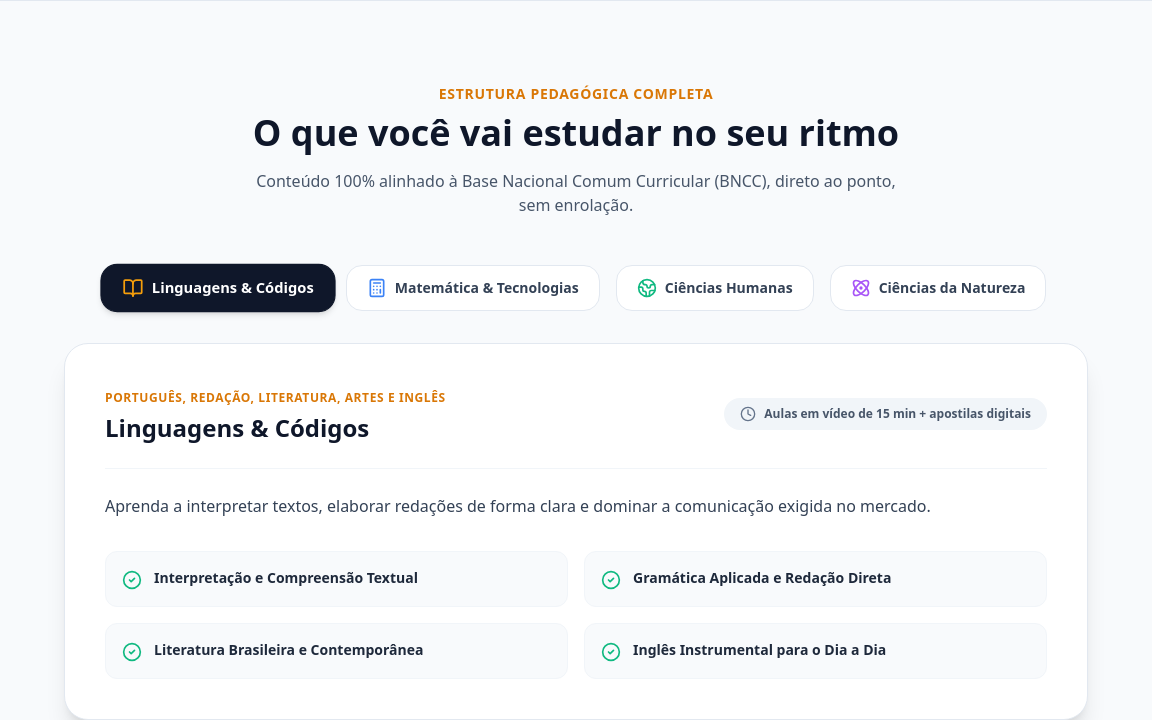
Test: Supletivo Brasil - Suite de Testes Completa › deve permitir trocar abas na Grade Curricular
This screenshot has width=1152, height=720.
Expected: the text "Estrutura Pedagógica Completa" is shown, [439,84,713,103]
What coordinates should you click on to do the following:
click the button "Matemática & Tecnologias"
I would click on:
 (473, 288)
Its box is [346,265,600,311].
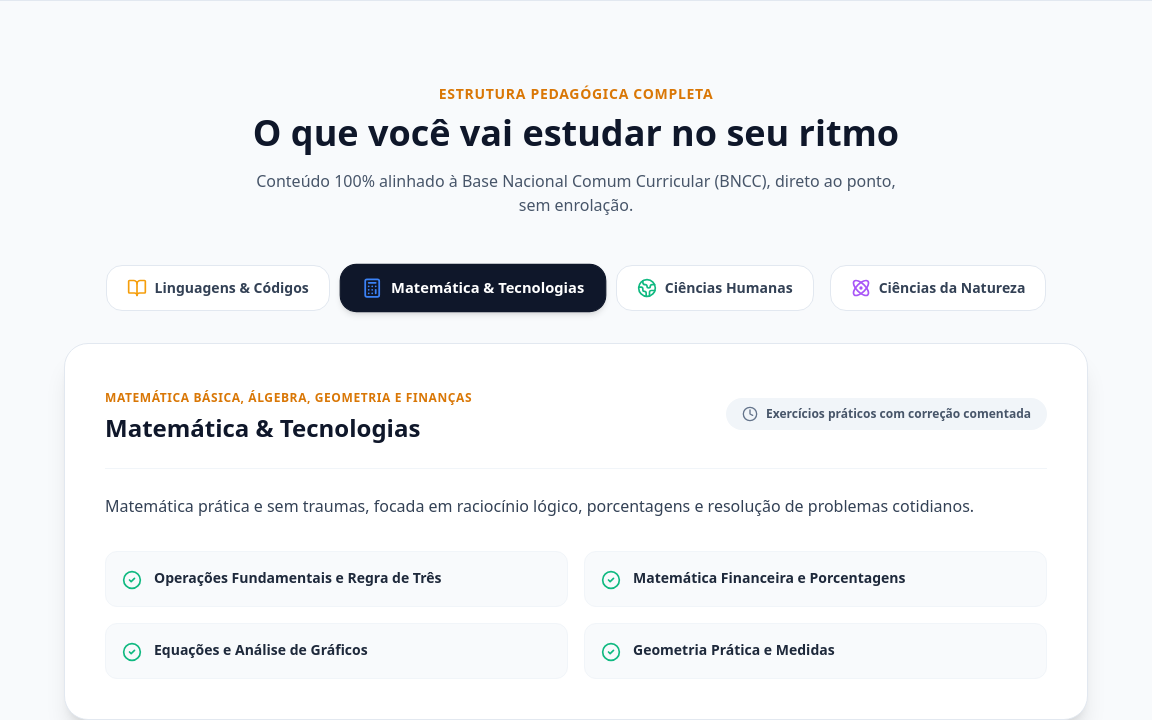
Expected: the text "Operações Fundamentais e Regra de Três" is shown, [154,568,442,588]
